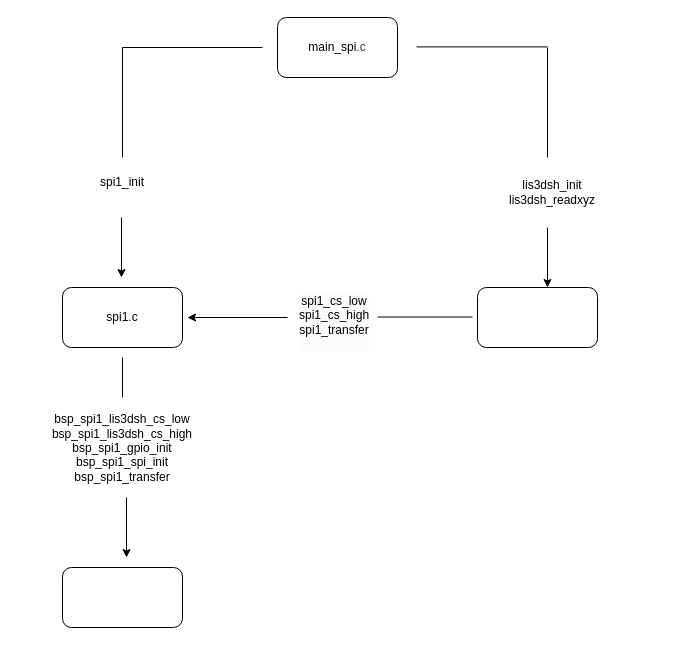
Some shapes in this 674 by 645 pixel diagram are drawn without their labels. Each missing label, with the centre of its shape:
"bsp_spi1.c" goes at point 122,597.
"lis3dsh.c" goes at point 537,317.
